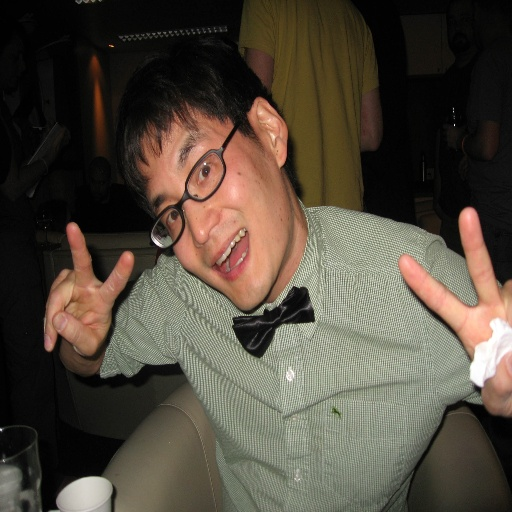hand: (397, 207, 511, 419), (46, 227, 132, 372)
